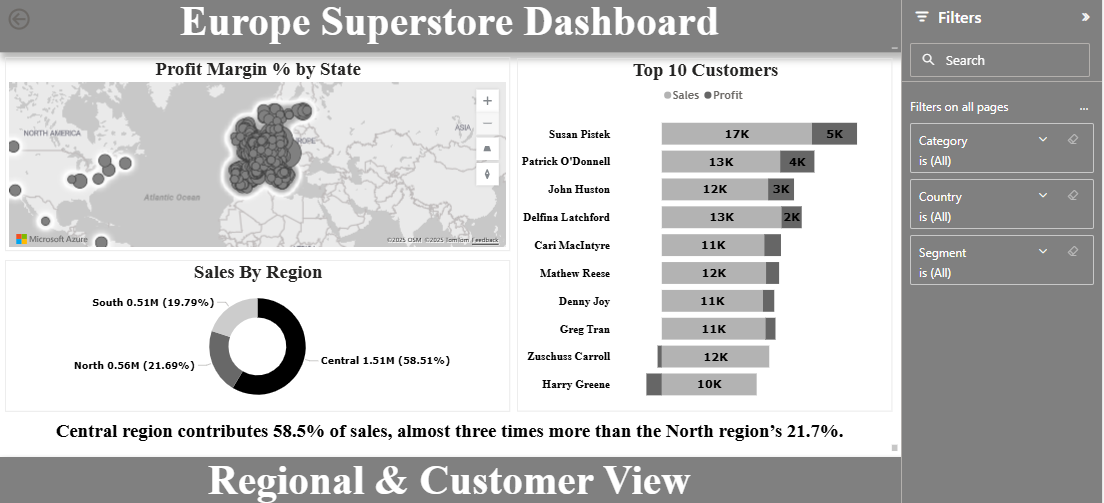

This screenshot's page, from the dashboard's own definition file:
{"tool":"powerbi","page":{"name":"Regional & Customer View","canvas":[1280,720],"ordinal":2},"visuals":[{"type":"textbox","title":"Europe Superstore Dashboard","box":[0,0,1280,77.3],"z":0},{"type":"textbox","title":"Regional & Customer View","box":[0,650.1,1280,70.6],"z":1000},{"type":"donutChart","title":"Sales By Region","fields":{"Category":["Orders.Region"],"Y":["Orders.Sales"]},"box":[10.1,371.2,715.6,215],"z":2000},{"type":"actionButton","box":[10,10,100,40],"z":3000},{"type":"barChart","title":"Top 10 Customers","fields":{"Category":["Orders.Customer Name"],"Y":["Orders.Sales","Orders.Profit"]},"box":[735.7,85.7,532.5,500.6],"z":4000},{"type":"azureMap","title":"Profit Margin % by State","fields":{"Category":["Orders.City","Orders.State"],"Size":["Orders.Profit Margin %"]},"box":[10.1,84,715.6,275.5],"z":5000},{"type":"textbox","title":"Central region contributes 58.5% of sales, almost three times more than the North region’s 21.7%.","box":[0,598,1280,48.7],"z":5001}]}

Visuals, with their boxes on the page's 1280x720 design canvas (x1, y1, x2, y2). These are canvas units, not pixel positions in the 1104x503 screenshot, which may show the page scaled, cropped or inside an application window:
"Europe Superstore Dashboard" textbox: <region>0, 0, 1280, 77</region>
"Regional & Customer View" textbox: <region>0, 650, 1280, 721</region>
"Sales By Region" donutChart: <region>10, 371, 726, 586</region>
actionButton: <region>10, 10, 110, 50</region>
"Top 10 Customers" barChart: <region>736, 86, 1268, 586</region>
"Profit Margin % by State" azureMap: <region>10, 84, 726, 360</region>
"Central region contributes 58.5% of sales, almost three times more than the North region’s 21.7%." textbox: <region>0, 598, 1280, 647</region>
